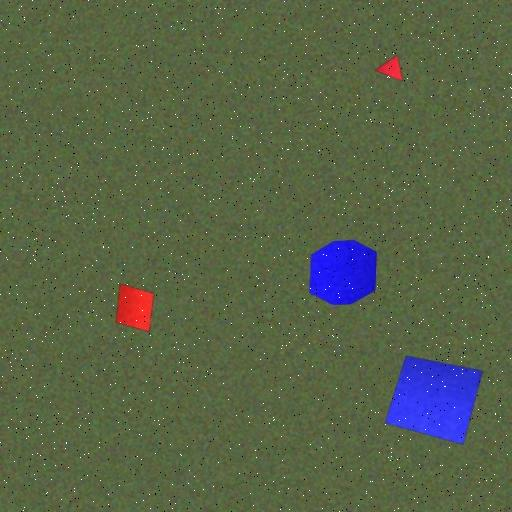BLUE_SQUARE: (384, 355, 484, 446)
RED_SQUARE: (116, 282, 154, 332)
